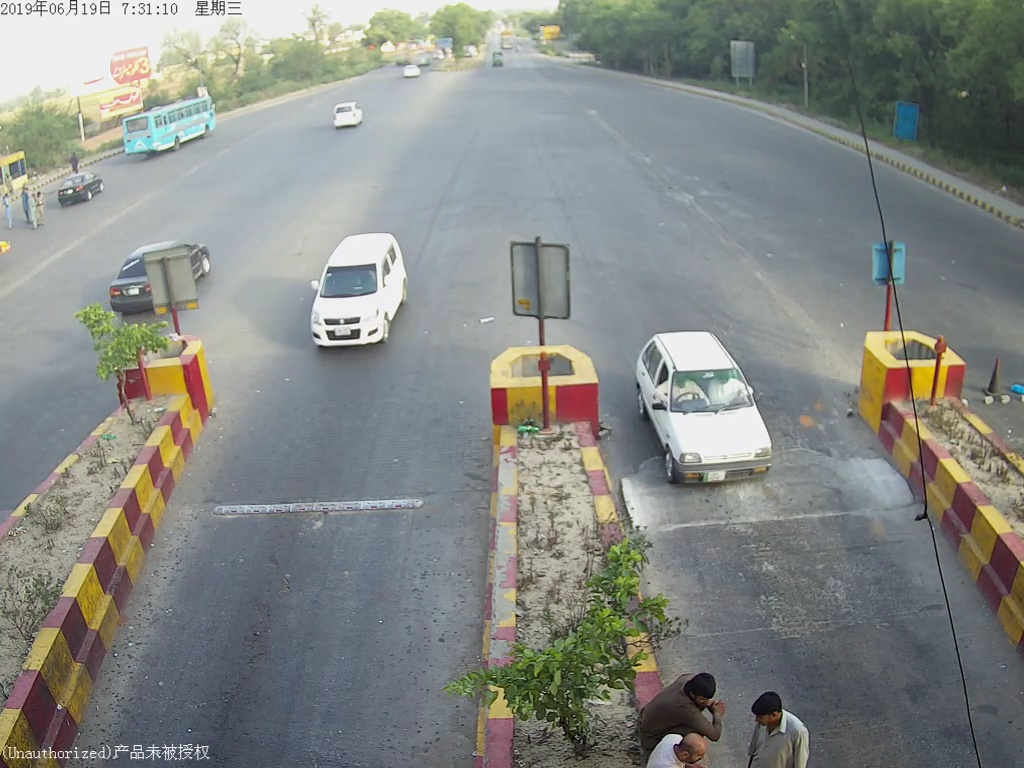Cat-1: (634, 325, 798, 508), (304, 230, 415, 352)
